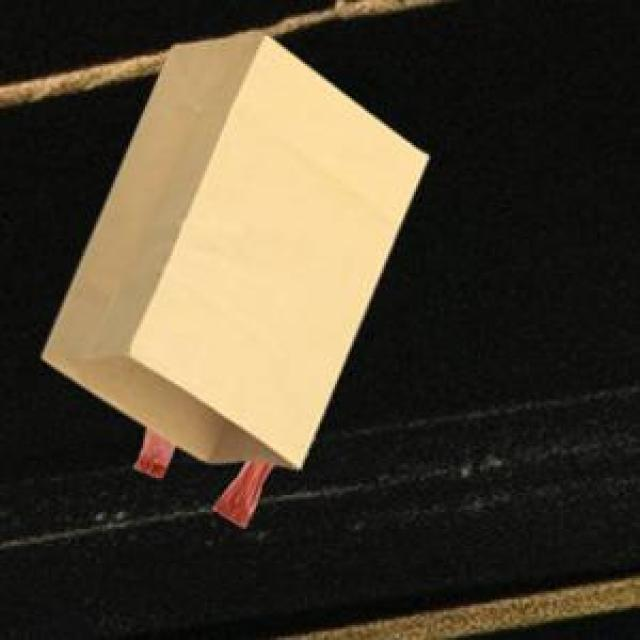paper: (38, 32, 425, 465)
